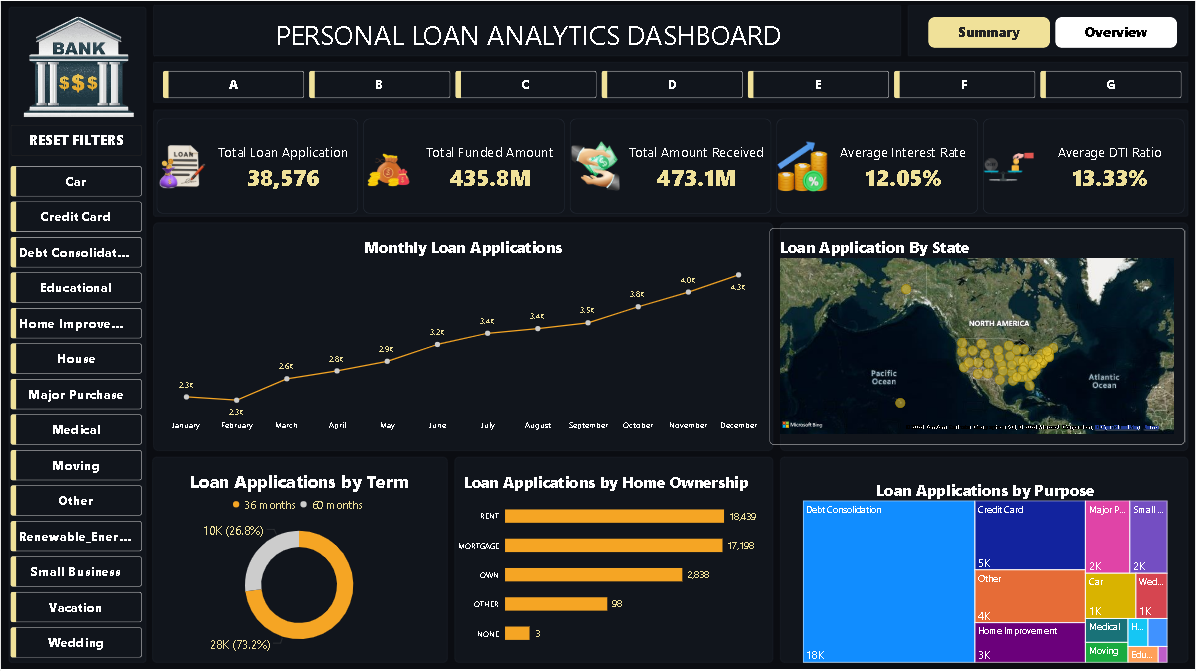

This screenshot's page, from the dashboard's own definition file:
{"tool":"powerbi","page":{"name":"Overview","canvas":[1920,1080],"ordinal":1},"visuals":[{"type":"cardVisual","fields":{"Data":["financial_loan.Total Loan Application","financial_loan.Total Funded Amount","financial_loan.Total Amount Received","financial_loan.Average Interest Rate","financial_loan.Average DTI Rate"]},"box":[250,187.8,1653.3,153.3],"z":0},{"type":"image","box":[0,0,250,210],"z":1000},{"type":"advancedSlicerVisual","fields":{"Values":["financial_loan.PURPOSE"]},"box":[14.3,264.3,211.4,802.9],"z":2000},{"type":"advancedSlicerVisual","fields":{"Values":["financial_loan.GRADE"]},"box":[260,113,1643,44],"z":3000},{"type":"actionButton","box":[14.3,200,211.4,50],"z":4000},{"type":"textbox","box":[250,24.3,1197.1,68.6],"z":5000},{"type":"pageNavigator","box":[1488.6,24.3,400,50],"z":6000},{"type":"lineChart","title":"Monthly Loan Applications","fields":{"Category":["financial_loan.ISSUE_DATE.Variation.Date Hierarchy.Month"],"Y":["financial_loan.Total Loan Application"]},"box":[250,365.7,985.7,348.6],"z":7000},{"type":"donutChart","title":"Loan Applications by Term","fields":{"Category":["financial_loan.TERM"],"Y":["financial_loan.Total Loan Application"]},"box":[250,738.6,458.6,328.6],"z":8000},{"type":"clusteredBarChart","title":"Loan Applications by Home Ownership","fields":{"Category":["financial_loan.HOME_OWNERSHIP"],"Y":["financial_loan.Total Loan Application"]},"box":[709.1,742.3,525.5,321.4],"z":9000},{"type":"treemap","title":"Loan Applications by Purpose","fields":{"Group":["financial_loan.PURPOSE"],"Values":["financial_loan.Total Loan Application"]},"box":[1272.9,755,617.3,324],"z":10000},{"type":"map","title":"Loan Application By State","fields":{"Category":["financial_loan.ADDRESS_STATE"]},"box":[1235.7,365.7,667.6,348.6],"z":10001}]}

Visuals, with their boxes in screenshot pixels (x1, y1, x2, y2), scaled from the page's 1920x1080 canvas onto the 1196x671 screenshot:
cardVisual - financial_loan.Total Loan Application x financial_loan.Total Funded Amount: 156, 117, 1186, 212
image: 0, 0, 156, 130
advancedSlicerVisual - financial_loan.PURPOSE: 9, 164, 141, 663
advancedSlicerVisual - financial_loan.GRADE: 162, 70, 1185, 98
actionButton: 9, 124, 141, 155
textbox: 156, 15, 901, 58
pageNavigator: 927, 15, 1176, 46
"Monthly Loan Applications" lineChart: 156, 227, 770, 444
"Loan Applications by Term" donutChart: 156, 459, 441, 663
"Loan Applications by Home Ownership" clusteredBarChart: 442, 461, 769, 661
"Loan Applications by Purpose" treemap: 793, 469, 1177, 670
"Loan Application By State" map: 770, 227, 1186, 444
